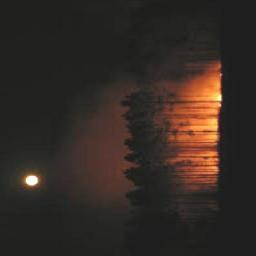Medium fire: (68, 56, 227, 205)
